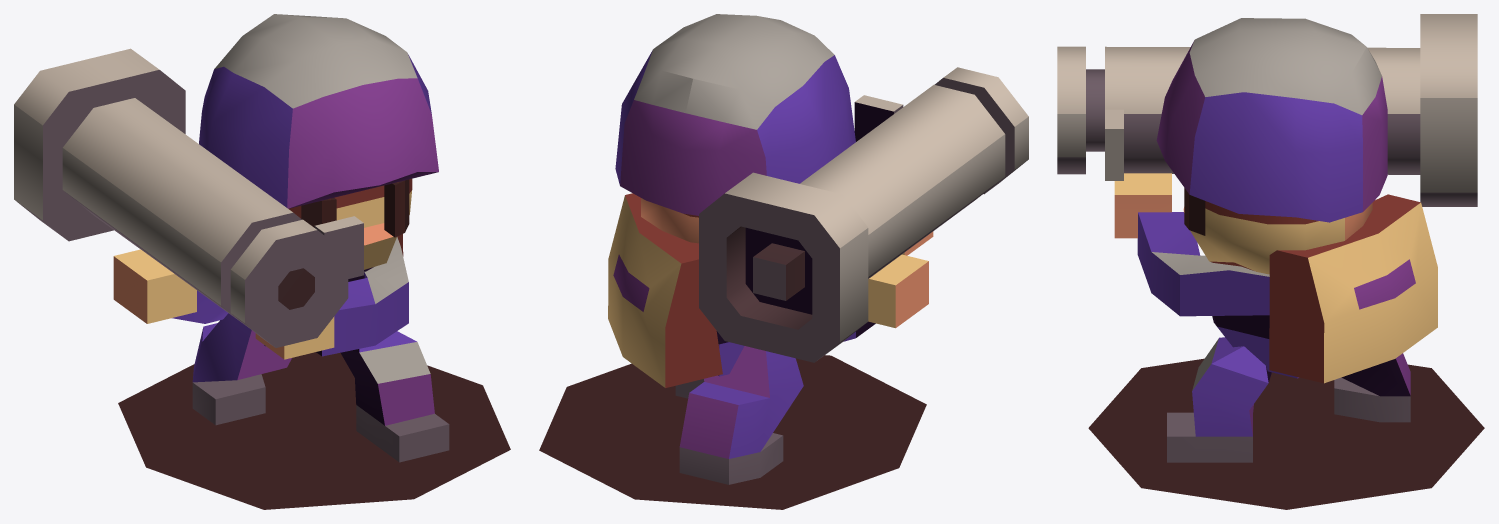
Rendered from MechMesh.BlackHole.glb.
The picture shows the model from 3 angles, left to right: view 1: azimuth 30°, elevation 25°; view 2: azimuth 150°, elevation 25°; view 3: azimuth 270°, elevation 25°; orthographic projection.
Parts seen in each view (by area): view 1: MechMesh.BlackHole; view 2: MechMesh.BlackHole; view 3: MechMesh.BlackHole.
Boxes of the visible parts, x1=… form: MechMesh.BlackHole: x1=14, y1=14, x2=510, y2=509; MechMesh.BlackHole: x1=539, y1=14, x2=1028, y2=509; MechMesh.BlackHole: x1=1057, y1=14, x2=1484, y2=509.
Bounding box in the file's own units: 2.24 × 2.3 × 2.24.
1 material, 1 textured.
